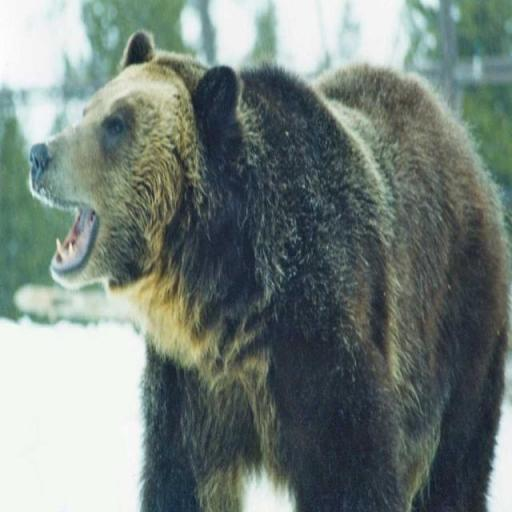Bear: (27, 29, 510, 511)
